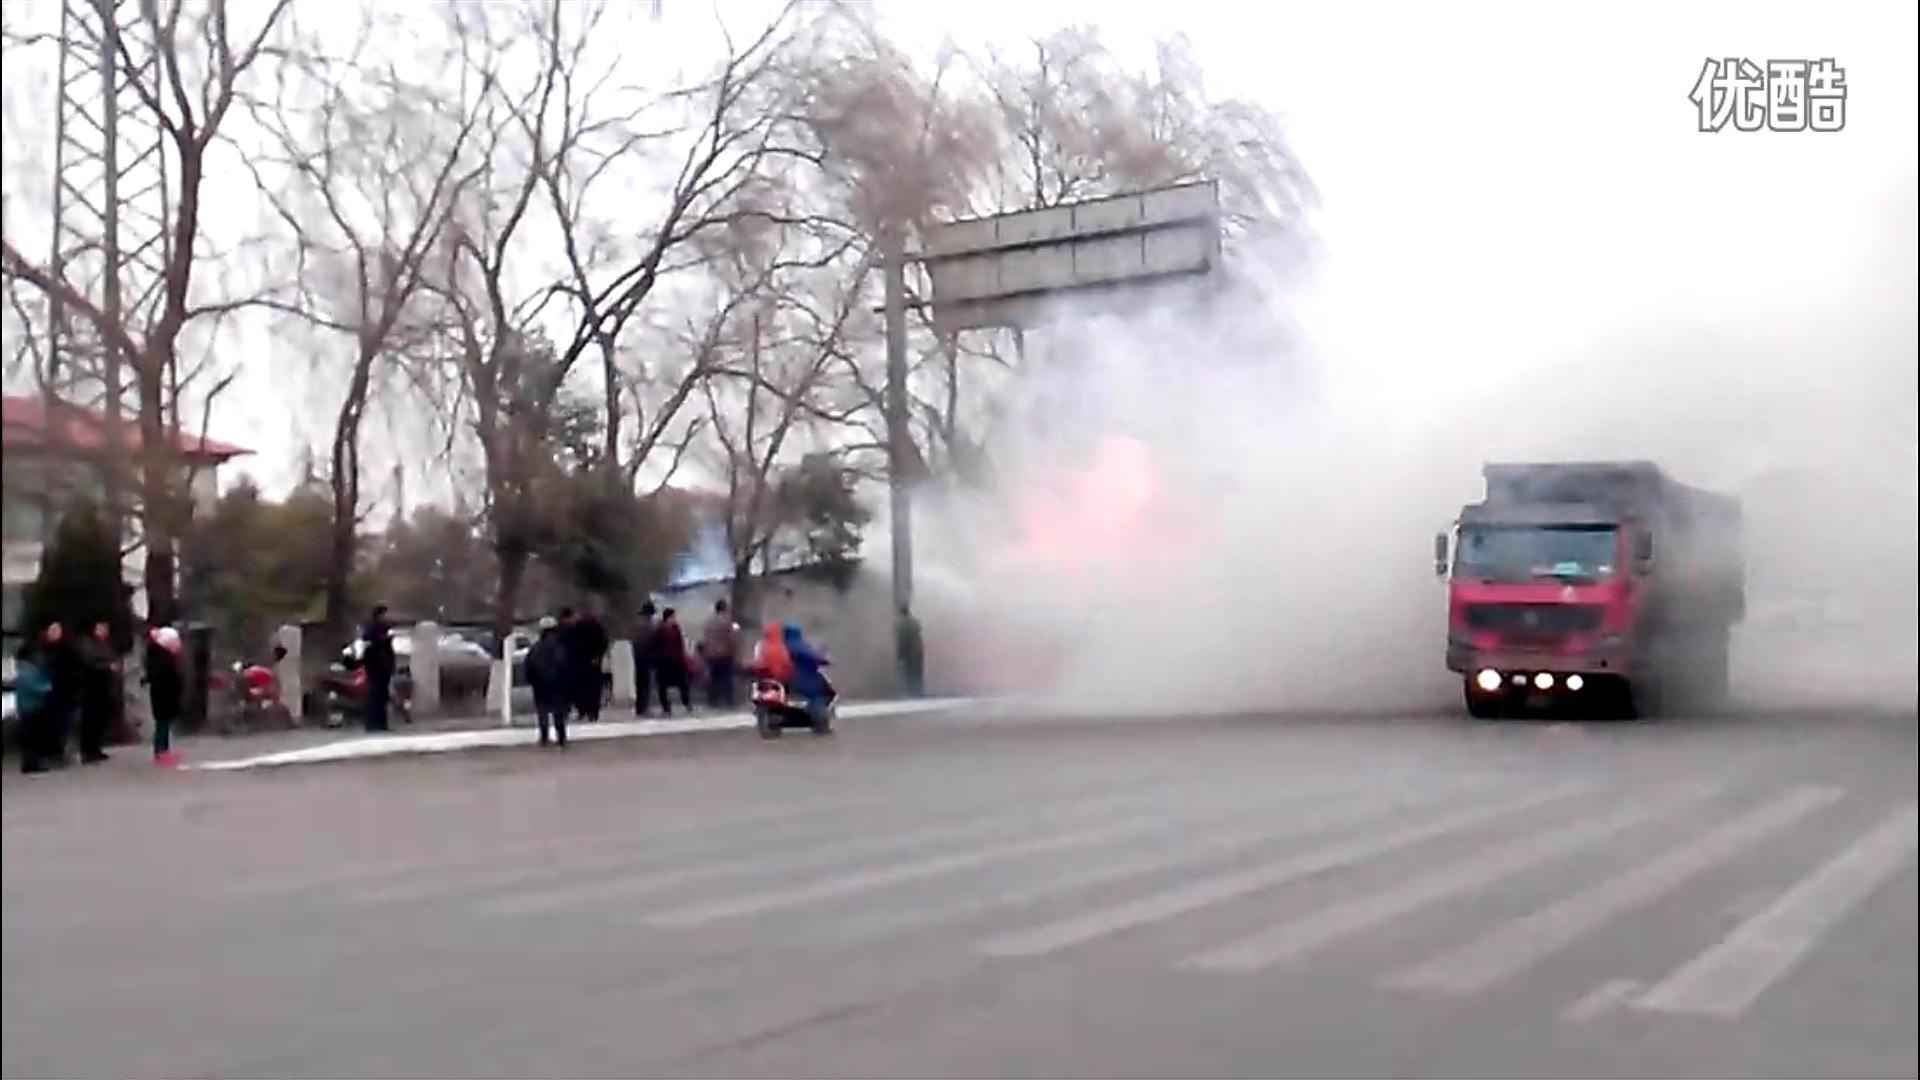fire: (1029, 442, 1176, 568)
